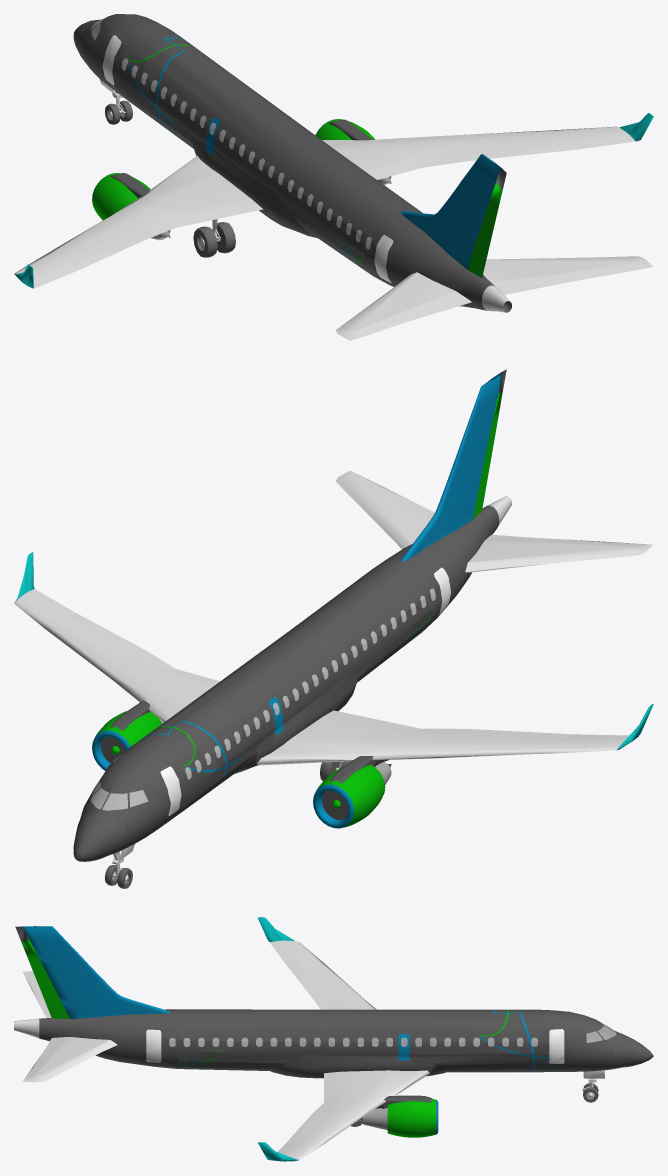
3 views of the same model, one above another, from view 1: azimuth 30°, elevation 25°; view 2: azimuth 150°, elevation 25°; view 3: azimuth 270°, elevation 25° (orthographic). The views are drawn at different scales.
Parts seen in each view (by area): view 1: mesh37_mesh37-geometry_2, mesh22_mesh22-geometry, mesh33_mesh33-geometry, mesh36_mesh36-geometry_4, mesh12_mesh12-geometry, mesh35_mesh35-geometry, mesh37_mesh37-geometry_6, mesh37_mesh37-geometry_1, mesh23_mesh23-geometry, mesh36_mesh36-geometry_1, mesh37_mesh37-geometry_5, mesh37_mesh37-geometry_3 (+4 smaller); view 2: mesh37_mesh37-geometry_2, mesh22_mesh22-geometry, mesh33_mesh33-geometry, mesh36_mesh36-geometry_4, mesh35_mesh35-geometry, mesh12_mesh12-geometry, mesh37_mesh37-geometry_6, mesh37_mesh37-geometry_1, mesh23_mesh23-geometry, mesh37_mesh37-geometry_5, mesh34_mesh34-geometry, mesh23_mesh23-geometry_1 (+1 smaller); view 3: mesh37_mesh37-geometry_2, mesh33_mesh33-geometry, mesh36_mesh36-geometry_4, mesh22_mesh22-geometry, mesh12_mesh12-geometry, mesh37_mesh37-geometry_6, mesh34_mesh34-geometry, mesh37_mesh37-geometry_1, mesh36_mesh36-geometry_1, mesh37_mesh37-geometry_5, mesh37_mesh37-geometry_3, mesh34_mesh34-geometry_2 (+4 smaller).
Part boxes in pixels (x1=…): mesh37_mesh37-geometry_2: x1=73, y1=14, x2=495, y2=310; mesh22_mesh22-geometry: x1=14, y1=156, x2=262, y2=288; mesh33_mesh33-geometry: x1=322, y1=126, x2=635, y2=179; mesh36_mesh36-geometry_4: x1=401, y1=154, x2=501, y2=269; mesh12_mesh12-geometry: x1=483, y1=256, x2=652, y2=294; mesh35_mesh35-geometry: x1=335, y1=272, x2=471, y2=340; mesh37_mesh37-geometry_6: x1=90, y1=16, x2=371, y2=249; mesh37_mesh37-geometry_1: x1=91, y1=20, x2=371, y2=248; mesh23_mesh23-geometry: x1=92, y1=173, x2=150, y2=220; mesh36_mesh36-geometry_1: x1=467, y1=183, x2=502, y2=277; mesh37_mesh37-geometry_5: x1=102, y1=24, x2=393, y2=283; mesh37_mesh37-geometry_3: x1=126, y1=37, x2=360, y2=265; mesh37_mesh37-geometry_2: x1=73, y1=505, x2=499, y2=861; mesh22_mesh22-geometry: x1=257, y1=710, x2=629, y2=765; mesh33_mesh33-geometry: x1=14, y1=589, x2=219, y2=722; mesh36_mesh36-geometry_4: x1=401, y1=373, x2=502, y2=561; mesh35_mesh35-geometry: x1=465, y1=534, x2=652, y2=572; mesh12_mesh12-geometry: x1=335, y1=470, x2=434, y2=549; mesh37_mesh37-geometry_6: x1=90, y1=588, x2=435, y2=810; mesh37_mesh37-geometry_1: x1=91, y1=538, x2=487, y2=810; mesh23_mesh23-geometry: x1=316, y1=765, x2=385, y2=827; mesh37_mesh37-geometry_5: x1=104, y1=567, x2=450, y2=857; mesh34_mesh34-geometry: x1=95, y1=711, x2=161, y2=754; mesh23_mesh23-geometry_1: x1=313, y1=784, x2=354, y2=828; mesh37_mesh37-geometry_2: x1=39, y1=1009, x2=653, y2=1078; mesh33_mesh33-geometry: x1=277, y1=1070, x2=429, y2=1159; mesh36_mesh36-geometry_4: x1=23, y1=926, x2=170, y2=1018; mesh22_mesh22-geometry: x1=269, y1=940, x2=376, y2=1009; mesh12_mesh12-geometry: x1=23, y1=1037, x2=117, y2=1082; mesh37_mesh37-geometry_6: x1=169, y1=1022, x2=616, y2=1046; mesh34_mesh34-geometry: x1=387, y1=1099, x2=435, y2=1137; mesh37_mesh37-geometry_1: x1=169, y1=1026, x2=615, y2=1046; mesh36_mesh36-geometry_1: x1=21, y1=939, x2=69, y2=1018; mesh37_mesh37-geometry_5: x1=146, y1=1029, x2=625, y2=1070; mesh37_mesh37-geometry_3: x1=176, y1=1009, x2=554, y2=1070; mesh34_mesh34-geometry_2: x1=358, y1=1108, x2=387, y2=1130.
Size of the model in its own units: 0.6235 by 0.2237 by 0.7491.
